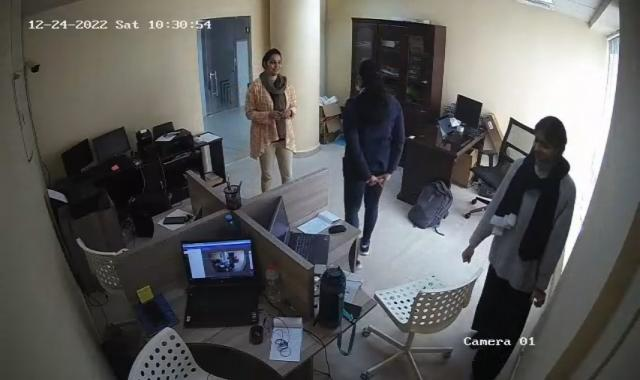no_hairnet: (530, 117, 568, 165), (351, 55, 389, 93), (259, 47, 284, 77)
